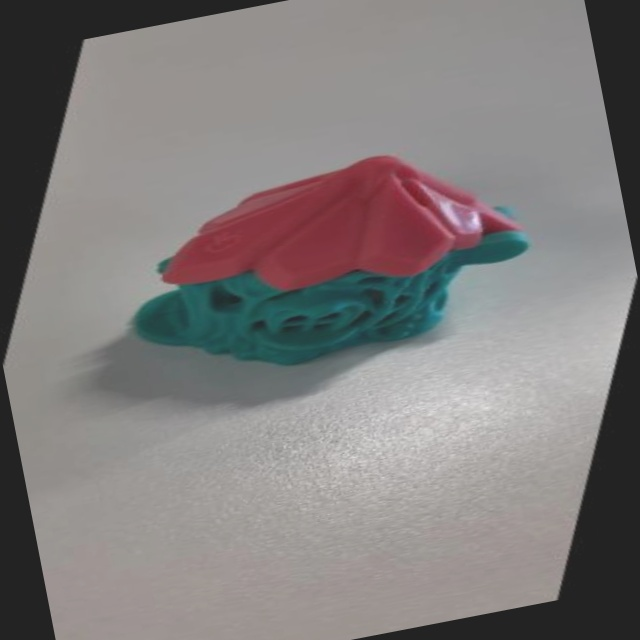House: (60, 83, 615, 428)
